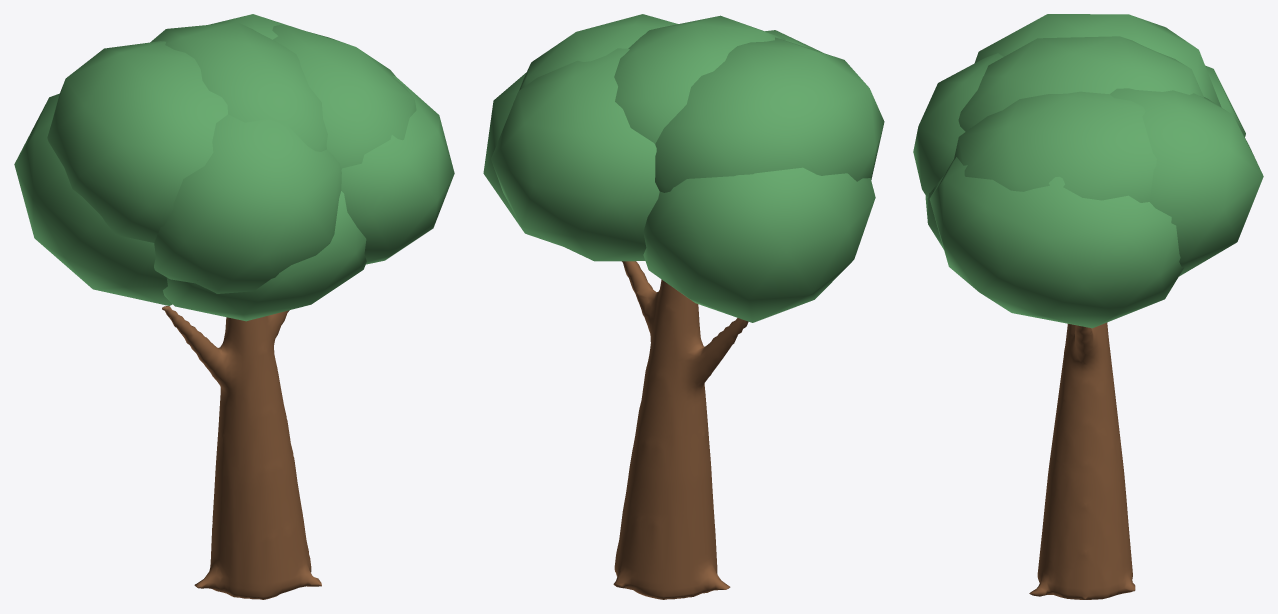
The model's file is NaturalTree_04_LeftLean.fbx.
The picture shows the model from 3 angles, left to right: view 1: azimuth 30°, elevation 25°; view 2: azimuth 150°, elevation 25°; view 3: azimuth 270°, elevation 25°; orthographic projection. The views are drawn at different scales.
Visible parts, largest first — view 1: Foliage_01.003, Foliage_03.003, Trunk.003, Foliage_05.003, Foliage_06.003, Foliage_00.003, Foliage_02.003, Foliage_07.003, Foliage_04.003; view 2: Foliage_05.003, Trunk.003, Foliage_04.003, Foliage_01.003, Foliage_00.003, Foliage_02.003, Foliage_06.003; view 3: Foliage_06.003, Trunk.003, Foliage_02.003, Foliage_04.003, Foliage_00.003, Foliage_01.003, Foliage_03.003, Foliage_05.003.
Part boxes in pixels (x1,y1,x2,y2): Foliage_01.003: [47, 41, 227, 242]; Foliage_03.003: [154, 114, 341, 293]; Trunk.003: [162, 306, 321, 599]; Foliage_05.003: [14, 93, 172, 305]; Foliage_06.003: [341, 75, 454, 264]; Foliage_00.003: [150, 22, 327, 151]; Foliage_02.003: [272, 24, 416, 169]; Foliage_07.003: [163, 191, 366, 321]; Foliage_04.003: [208, 14, 300, 39]; Foliage_05.003: [643, 167, 875, 322]; Trunk.003: [613, 261, 748, 599]; Foliage_04.003: [491, 48, 659, 261]; Foliage_01.003: [655, 37, 884, 192]; Foliage_00.003: [614, 15, 785, 143]; Foliage_02.003: [513, 14, 677, 103]; Foliage_06.003: [483, 72, 562, 246]; Foliage_06.003: [929, 157, 1183, 328]; Trunk.003: [1029, 322, 1135, 599]; Foliage_02.003: [953, 91, 1156, 202]; Foliage_04.003: [1110, 88, 1263, 276]; Foliage_00.003: [958, 36, 1203, 131]; Foliage_01.003: [974, 14, 1221, 107]; Foliage_03.003: [913, 53, 1003, 197]; Foliage_05.003: [1205, 65, 1245, 136].
Size of the model in its own units: 2.07 by 2.9 by 1.76.
